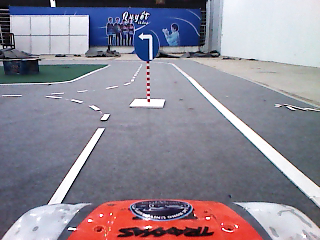turn: (132, 29, 163, 63)
